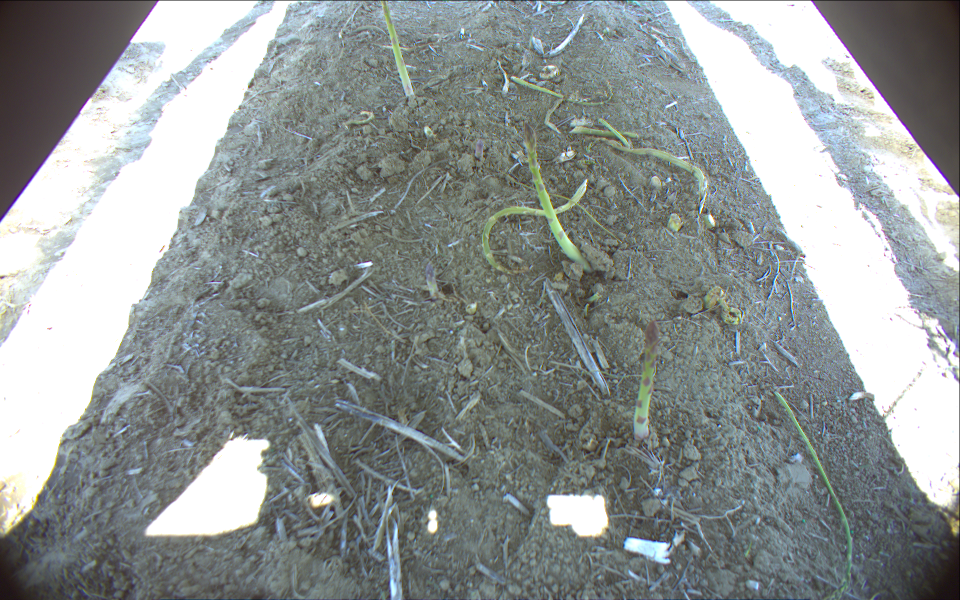aspa: (519, 123, 594, 277), (376, 1, 417, 98), (629, 319, 661, 443)
